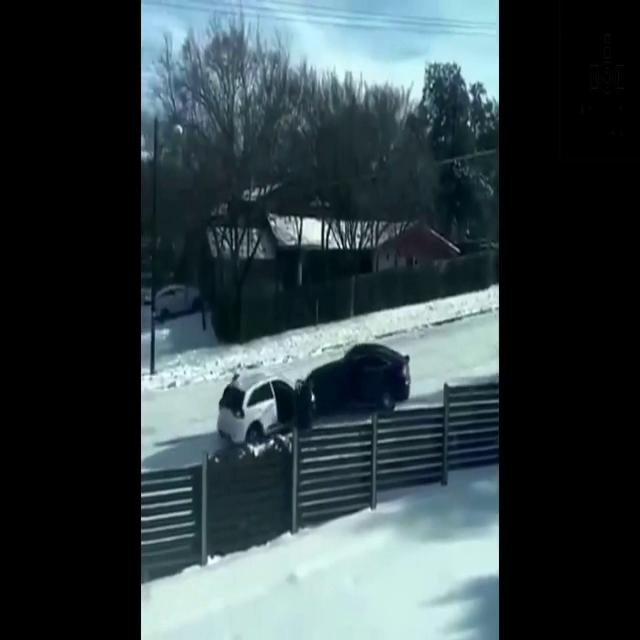accident: (213, 340, 411, 448)
